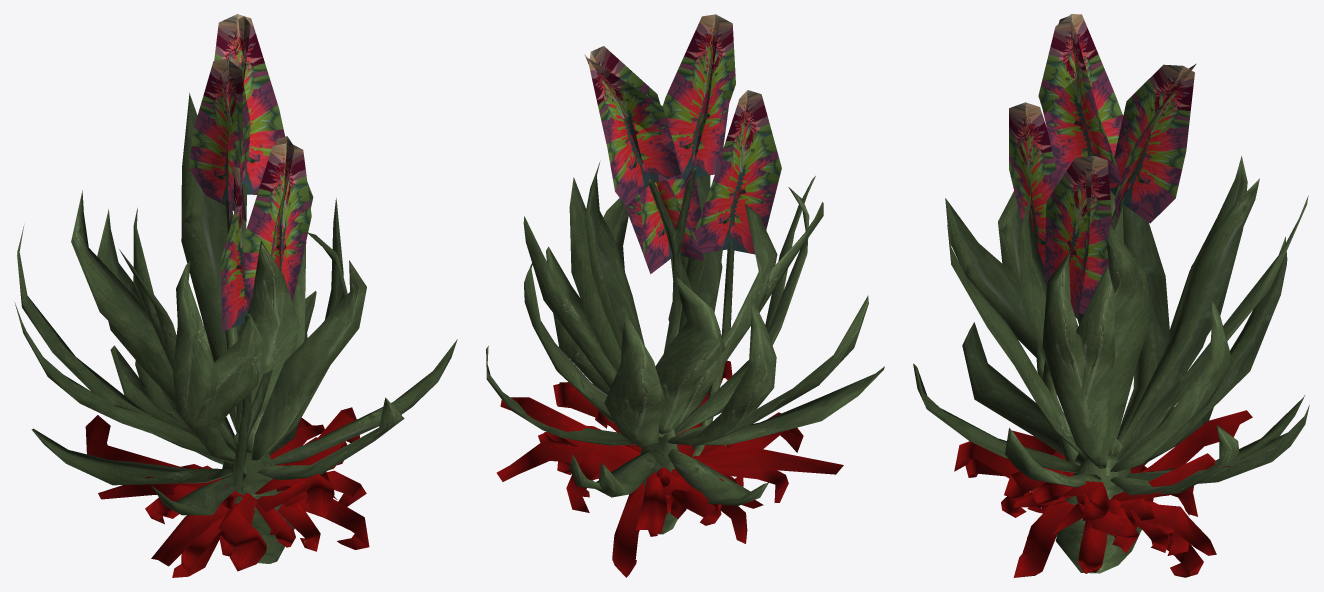
The model's file is Flower.fbx.
3 renders of one model, left to right at view 1: azimuth 30°, elevation 25°; view 2: azimuth 150°, elevation 25°; view 3: azimuth 270°, elevation 25°, orthographic. The views are drawn at different scales.
Parts seen in each view (by area): view 1: SM_pal_b00_flower_a.mo; view 2: SM_pal_b00_flower_a.mo; view 3: SM_pal_b00_flower_a.mo.
Part boxes in pixels (x1,y1,x2,y2): SM_pal_b00_flower_a.mo: (14,14,457,577); SM_pal_b00_flower_a.mo: (486,14,884,577); SM_pal_b00_flower_a.mo: (913,14,1309,577).
Size of the model in its own units: 49.02 by 65.21 by 42.84.
